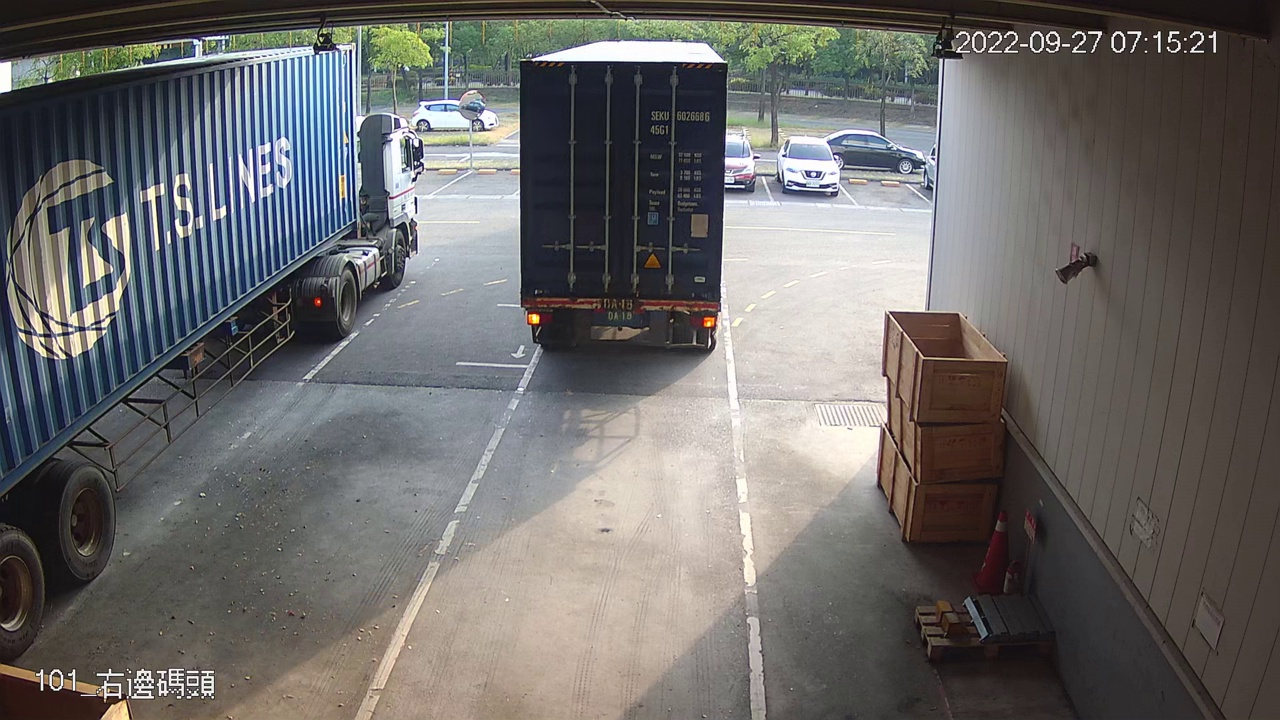container: (643, 104, 715, 142)
